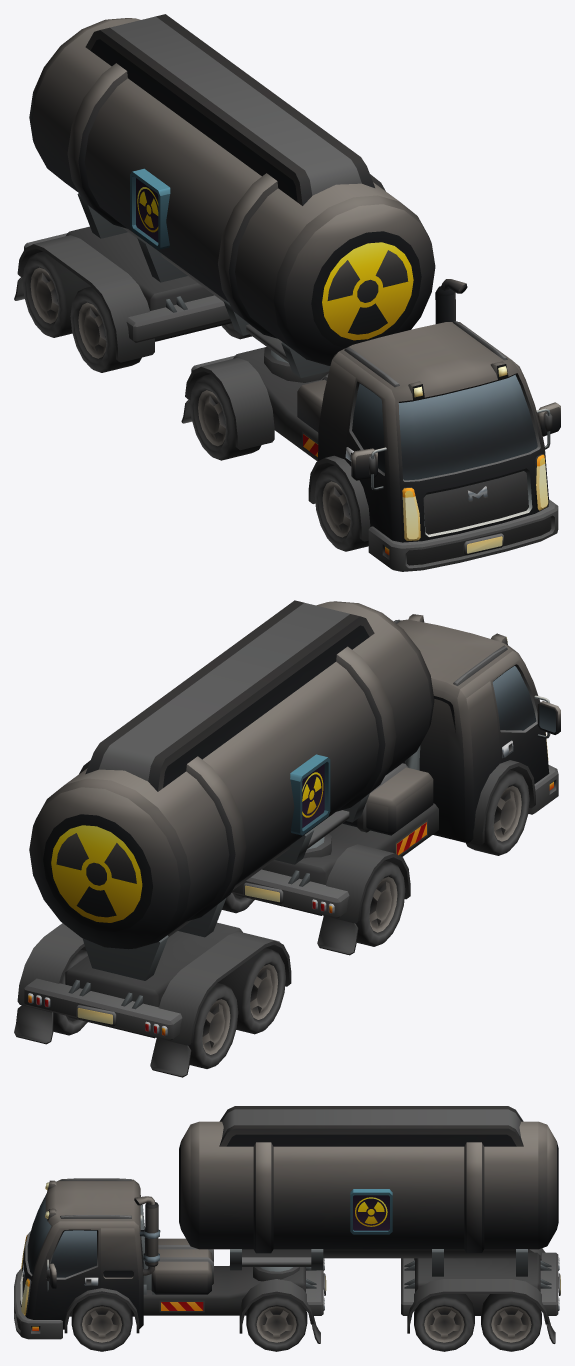
File: Cistern_1B.fbx
3 views of the same model, one above another, from view 1: azimuth 30°, elevation 25°; view 2: azimuth 150°, elevation 25°; view 3: azimuth 270°, elevation 25° (orthographic). The views are drawn at different scales.
Parts seen in each view (by area): view 1: Cistern_1B_Addon., Cistern_1B_Body, Cistern_1B_Addon_Wheel_R.R, Cistern_1B_Wheel_R.R, Cistern_1B_Addon_Wheel_F.R, Cistern_1B_Wheel_F.R; view 2: Cistern_1B_Addon., Cistern_1B_Body, Cistern_1B_Addon_Wheel_F.R, Cistern_1B_Wheel_F.R, Cistern_1B_Addon_Wheel_R.R, Cistern_1B_Wheel_R.R, Cistern_1B_Addon_Wheel_R.L; view 3: Cistern_1B_Addon., Cistern_1B_Body, Cistern_1B_Addon_Wheel_F.L, Cistern_1B_Addon_Wheel_R.L, Cistern_1B_Wheel_F.L, Cistern_1B_Wheel_R.L.
Part boxes in pixels (bbox=[...]): Cistern_1B_Addon.: bbox=[14, 14, 435, 377]; Cistern_1B_Body: bbox=[181, 279, 560, 571]; Cistern_1B_Addon_Wheel_R.R: bbox=[22, 251, 90, 337]; Cistern_1B_Wheel_R.R: bbox=[190, 374, 261, 460]; Cistern_1B_Addon_Wheel_F.R: bbox=[70, 286, 141, 372]; Cistern_1B_Wheel_F.R: bbox=[314, 465, 368, 551]; Cistern_1B_Addon.: bbox=[14, 600, 434, 1077]; Cistern_1B_Body: bbox=[231, 614, 560, 955]; Cistern_1B_Addon_Wheel_F.R: bbox=[217, 948, 285, 1034]; Cistern_1B_Wheel_F.R: bbox=[466, 770, 529, 855]; Cistern_1B_Addon_Wheel_R.R: bbox=[189, 983, 238, 1068]; Cistern_1B_Wheel_R.R: bbox=[355, 860, 405, 946]; Cistern_1B_Addon_Wheel_R.L: bbox=[53, 949, 87, 1035]; Cistern_1B_Addon.: bbox=[179, 1106, 560, 1343]; Cistern_1B_Body: bbox=[14, 1178, 326, 1343]; Cistern_1B_Addon_Wheel_F.L: bbox=[414, 1294, 474, 1351]; Cistern_1B_Addon_Wheel_R.L: bbox=[481, 1294, 541, 1351]; Cistern_1B_Wheel_F.L: bbox=[71, 1294, 132, 1351]; Cistern_1B_Wheel_R.L: bbox=[246, 1294, 307, 1351].
Size of the model in its own units: 3.01 by 4.06 by 9.79.
